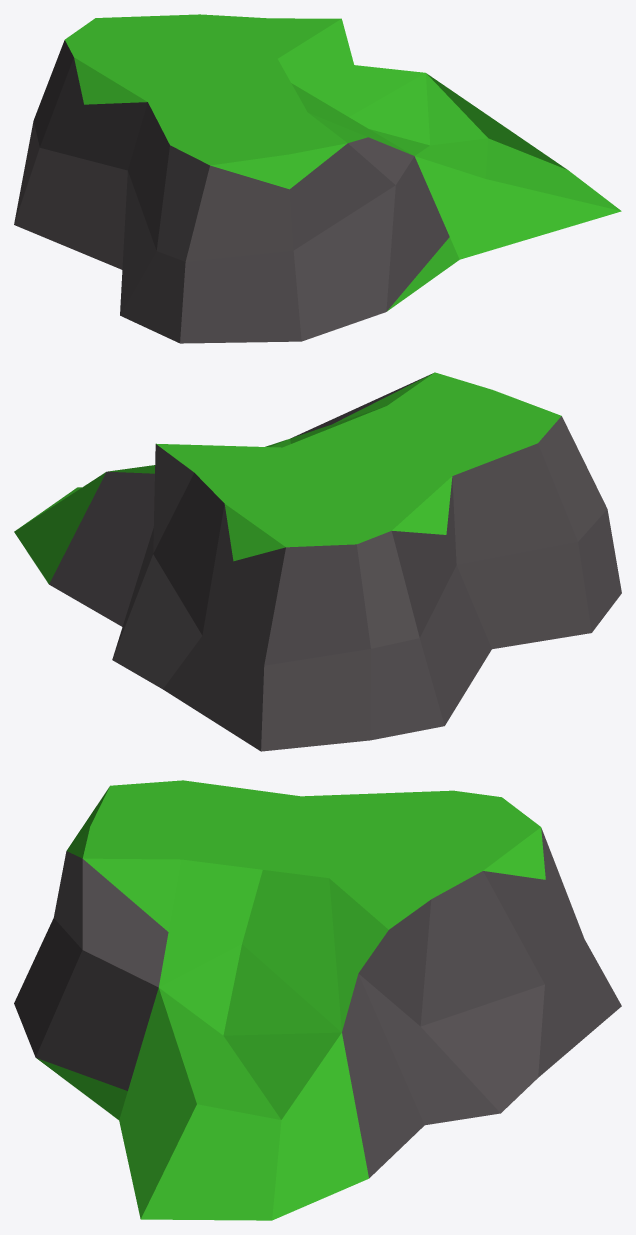
Rendered from mountain_s2.fbx.
3 renders of one model, top to bottom at view 1: azimuth 30°, elevation 25°; view 2: azimuth 150°, elevation 25°; view 3: azimuth 270°, elevation 25°, orthographic. The views are drawn at different scales.
Visible parts, largest first — view 1: Circle.012; view 2: Circle.012; view 3: Circle.012.
Part boxes in pixels (left/top/right/bottom): Circle.012: left=14, top=14, right=621, bottom=343; Circle.012: left=14, top=372, right=621, bottom=751; Circle.012: left=14, top=780, right=621, bottom=1220.
Size of the model in its own units: 1394 by 436 by 1277.
